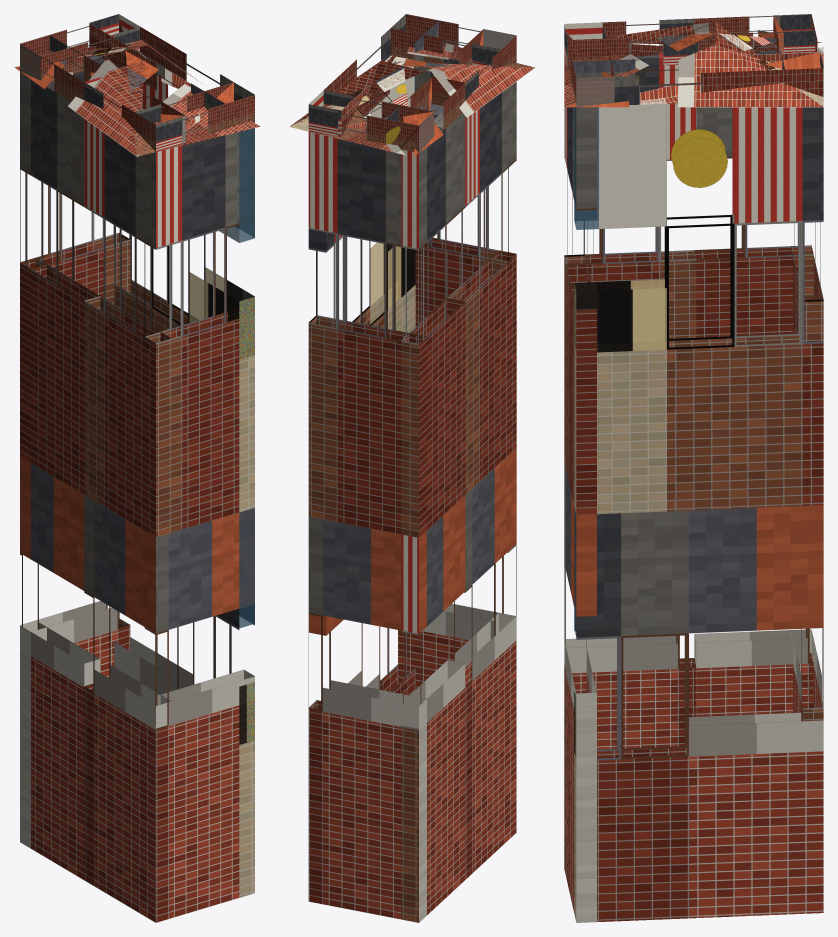
3 renders of one model, left to right at view 1: azimuth 30°, elevation 25°; view 2: azimuth 150°, elevation 25°; view 3: azimuth 270°, elevation 25°, orthographic. The views are drawn at different scales.
Visible parts, largest first — view 1: 238568849__wall_3_xb, 238568849__wall_2_xb, 238568849__wall_1_xb, 238568849__wall_4_xb, 238568849__wall_0_xb, 238568849__wall_4_xf, 238568849_roof_left_xb, 238568849__cornice_4, 238568849__cornice_3, 238568849__cornice_0, 238568849_roof_front_xb, 238568849__cornice_2 (+1 smaller); view 2: 238568849__wall_0_xb, 238568849__wall_1_xb, 238568849__wall_2_xb, 238568849__wall_3_xb, 238568849__wall_4_xb, 238568849__cornice_0, 238568849_roof_left_xb, 238568849__cornice_3, 238568849__cornice_4, 238568849__cornice_1, 238568849_roof_back_xb, 238568849__wall_4_xf (+3 smaller); view 3: 238568849__wall_4_xb, 238568849__wall_3_xb, 238568849__wall_1_xb, 238568849__wall_2_xb, 238568849__wall_4_xf, 238568849__cornice_4, 238568849_roof_right_xb, 238568849__wall_0_xb, 238568849__cornice_2, 238568849__cornice_1, 238568849__cornice_3, 238568849_roof_front_xb (+2 smaller).
Part boxes in pixels (x1,y1,x2,y2): 238568849__wall_3_xb: [144, 128, 254, 922]; 238568849__wall_2_xb: [84, 119, 171, 922]; 238568849__wall_1_xb: [20, 80, 100, 879]; 238568849__wall_4_xb: [113, 75, 254, 897]; 238568849__wall_0_xb: [20, 54, 130, 848]; 238568849__wall_4_xf: [190, 128, 254, 744]; 238568849_roof_left_xb: [14, 48, 146, 156]; 238568849__cornice_4: [89, 14, 254, 122]; 238568849__cornice_3: [135, 82, 254, 151]; 238568849__cornice_0: [20, 14, 139, 80]; 238568849_roof_front_xb: [125, 51, 260, 156]; 238568849__cornice_2: [84, 77, 185, 151]; 238568849__wall_0_xb: [308, 132, 426, 922]; 238568849__wall_1_xb: [401, 111, 465, 922]; 238568849__wall_2_xb: [448, 82, 516, 879]; 238568849__wall_3_xb: [398, 59, 516, 689]; 238568849__wall_4_xb: [308, 55, 415, 695]; 238568849__cornice_0: [308, 90, 434, 152]; 238568849_roof_left_xb: [394, 61, 534, 156]; 238568849__cornice_3: [391, 14, 500, 65]; 238568849__cornice_4: [324, 14, 438, 136]; 238568849__cornice_1: [386, 76, 465, 148]; 238568849_roof_back_xb: [289, 66, 407, 155]; 238568849__wall_4_xf: [370, 76, 415, 309]; 238568849__wall_4_xb: [574, 97, 823, 921]; 238568849__wall_3_xb: [564, 102, 596, 922]; 238568849__wall_1_xb: [694, 50, 813, 716]; 238568849__wall_2_xb: [564, 53, 696, 749]; 238568849__wall_4_xf: [574, 107, 725, 755]; 238568849__cornice_4: [573, 52, 823, 104]; 238568849_roof_right_xb: [565, 22, 823, 107]; 238568849__wall_0_xb: [791, 222, 823, 721]; 238568849__cornice_2: [566, 18, 697, 67]; 238568849__cornice_1: [694, 14, 815, 53]; 238568849__cornice_3: [564, 22, 614, 107]; 238568849_roof_front_xb: [564, 33, 714, 106].
Bounding box in the file's own units: 0.118 × 0.7354 × 0.2018.
1 material, 1 textured.
